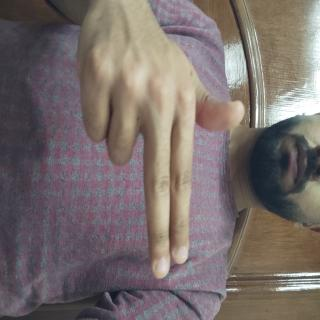GHAYN: (0, 94, 211, 320)
